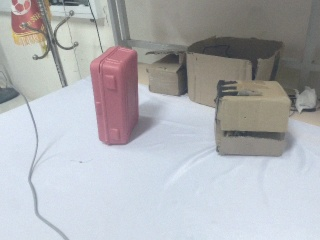box: (187, 36, 283, 106), (89, 45, 146, 147), (215, 80, 291, 156)
